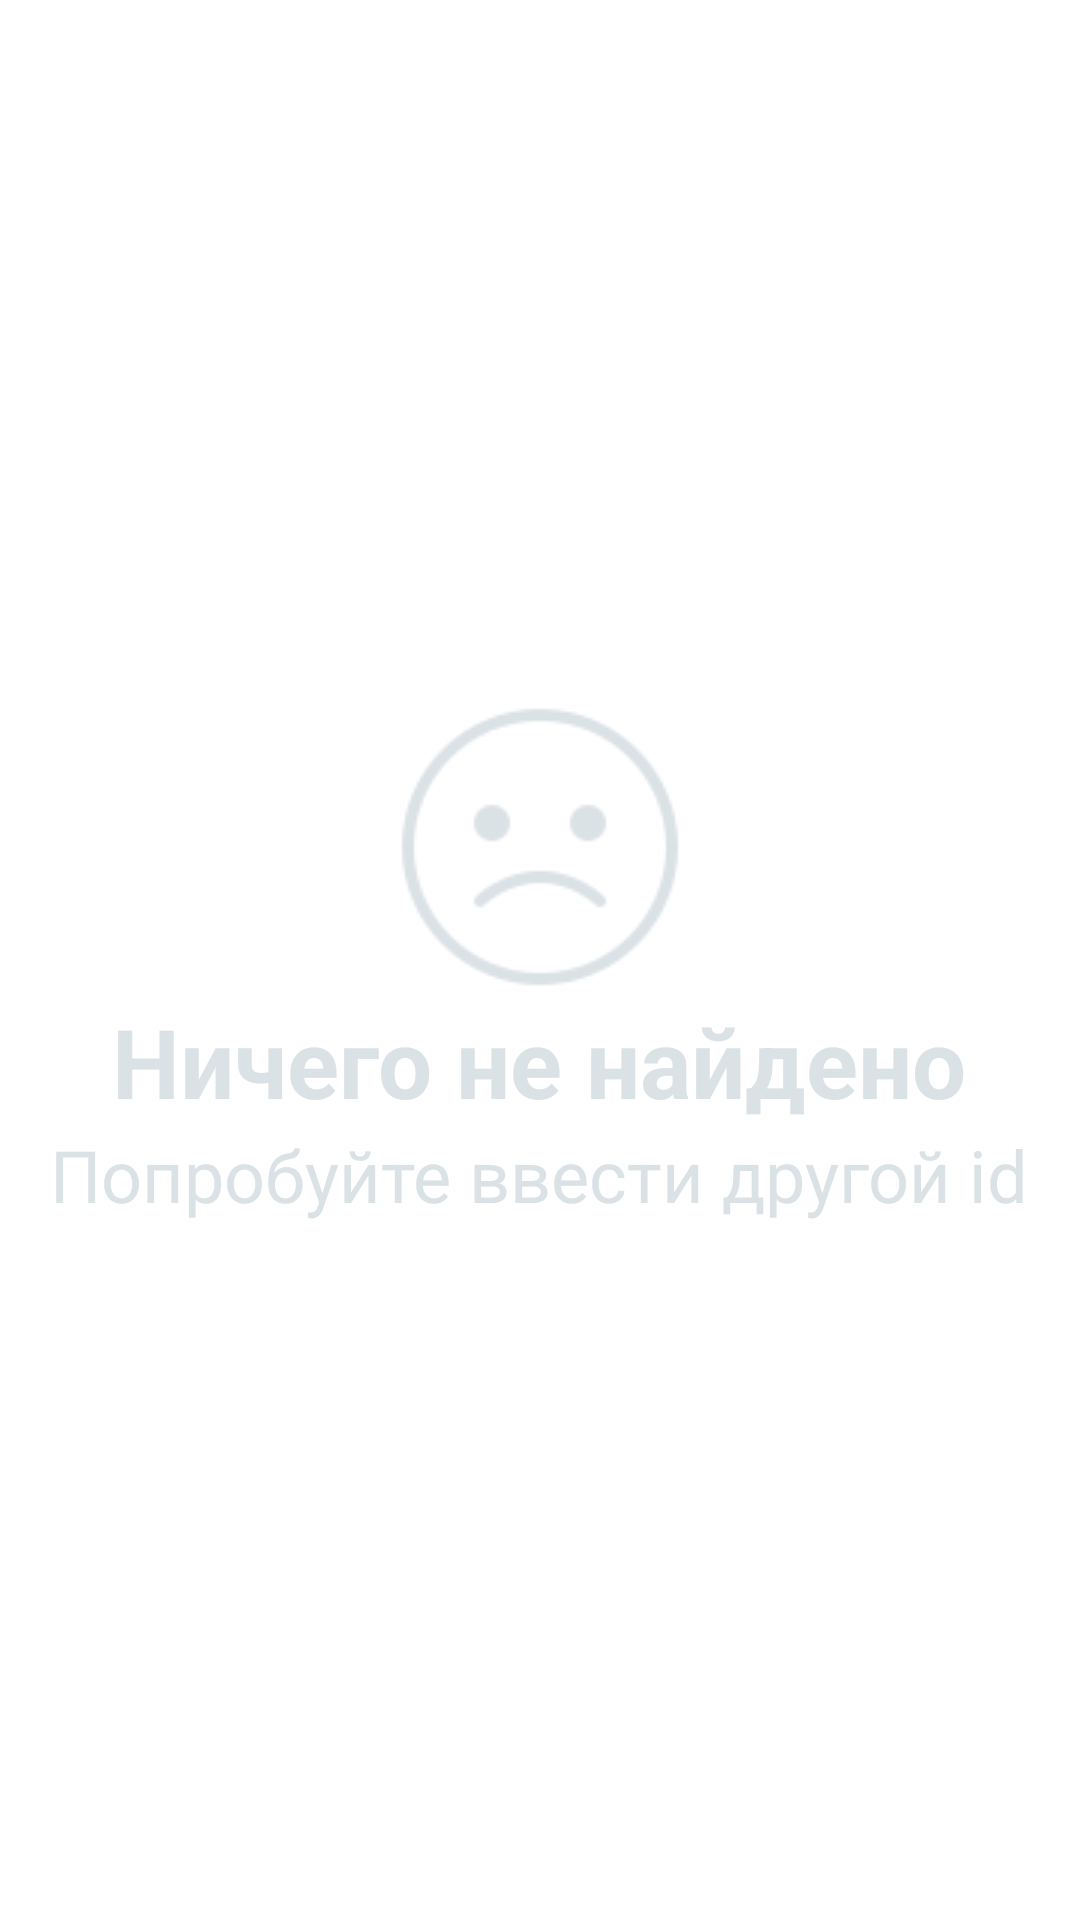

Where icons sit on this 1080px x 1920px app screen, as rect(x1, y1, x2, y2):
error search: rect(403, 710, 677, 984)
